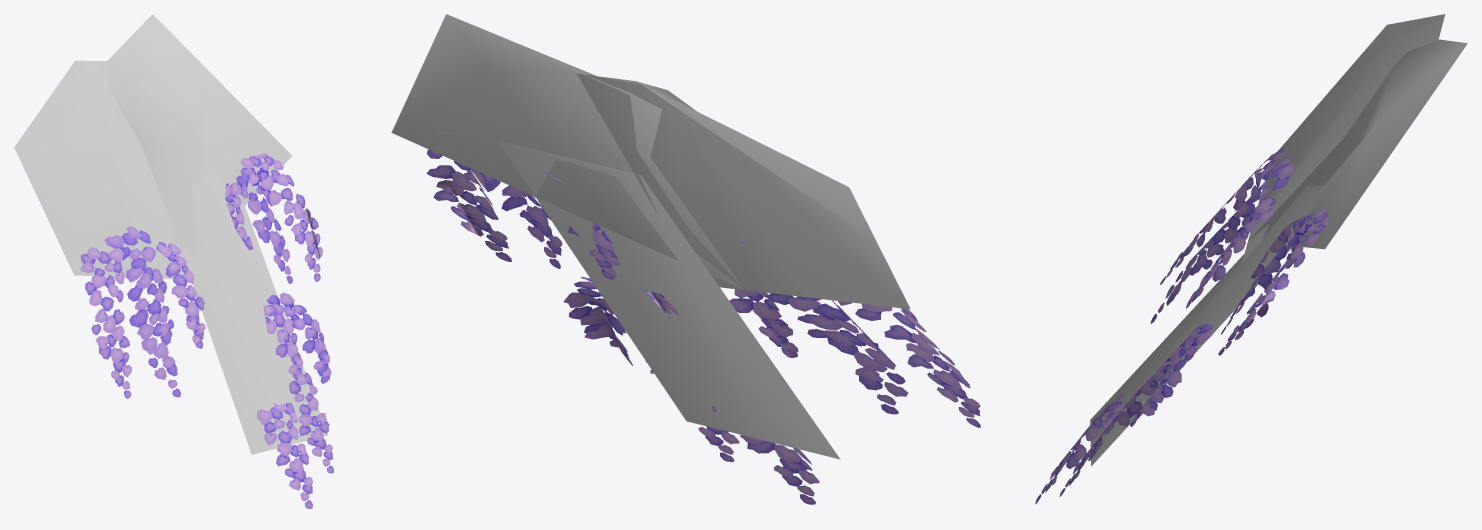
Rendered from SM_Env_Vines_Preset_Roof_Straight_03.fbx.
The picture shows the model from 3 angles, left to right: view 1: azimuth 30°, elevation 25°; view 2: azimuth 150°, elevation 25°; view 3: azimuth 270°, elevation 25°; orthographic projection. The views are drawn at different scales.
Visible parts, largest first — view 1: SM_Env_Vines_Preset_Roof_Straight_03; view 2: SM_Env_Vines_Preset_Roof_Straight_03; view 3: SM_Env_Vines_Preset_Roof_Straight_03.
Part boxes in pixels (x1=…): SM_Env_Vines_Preset_Roof_Straight_03: x1=14, y1=14, x2=333, y2=508; SM_Env_Vines_Preset_Roof_Straight_03: x1=391, y1=14, x2=980, y2=504; SM_Env_Vines_Preset_Roof_Straight_03: x1=1035, y1=14, x2=1467, y2=504.
Bounding box in the file's own units: 175 × 236 × 197.
